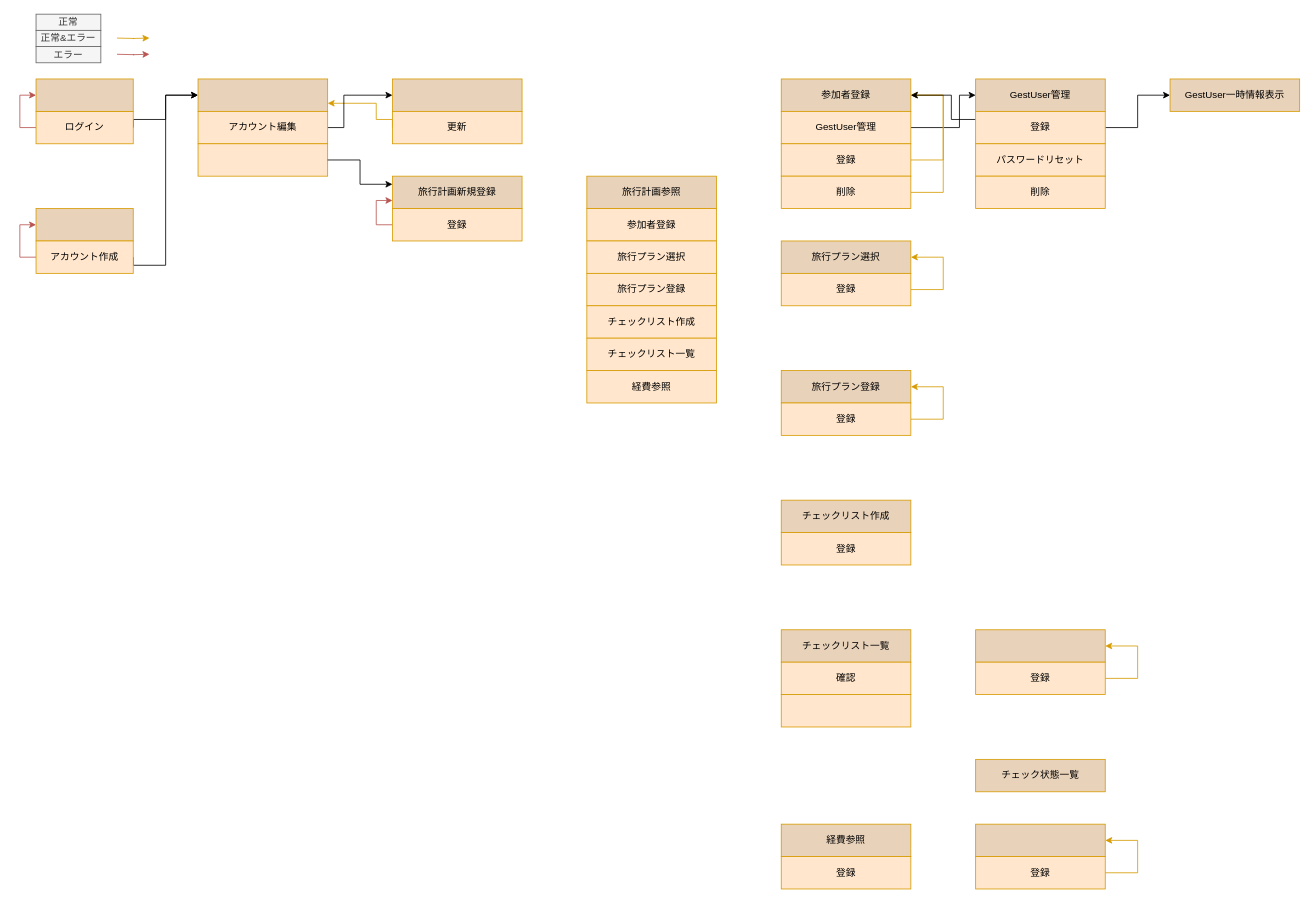
The diagram is 1314 pixels wide and 903 high, and some of its shapes have lost their labels. The centre of each missing label's shape, as x and y in pixels:
"My Page" goes at point 262,94.
"Sign In" goes at point 84,94.
"Sign Up" goes at point 84,224.
"チェックリスト登録" goes at point 1040,645.
"プロフィール編集" goes at point 457,94.
"一覧参照" goes at point 845,710.
"旅行計画作成" goes at point 262,159.
"経費登録" goes at point 1040,840.
